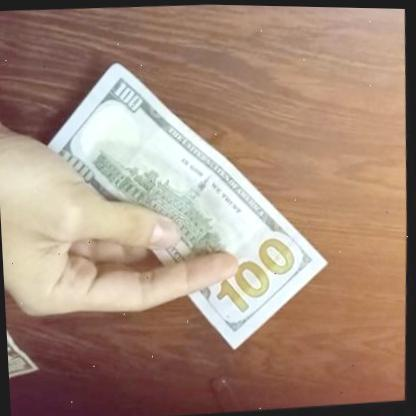one_hundred-back: (18, 36, 346, 371)
